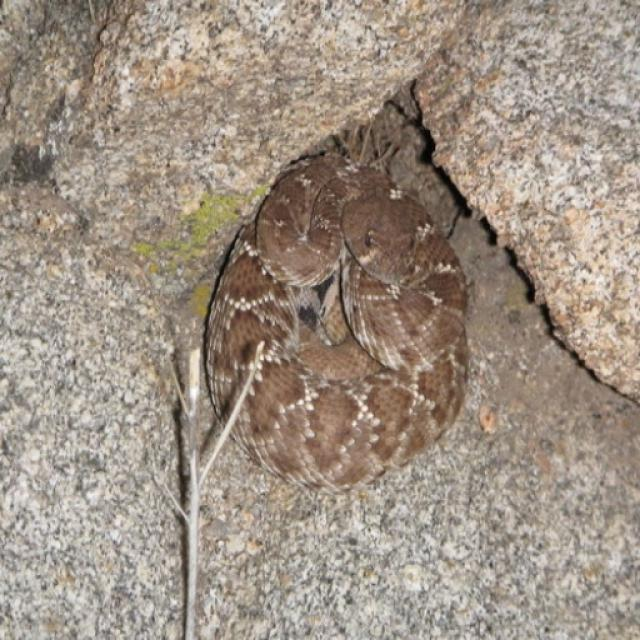snake: (206, 138, 491, 490)
